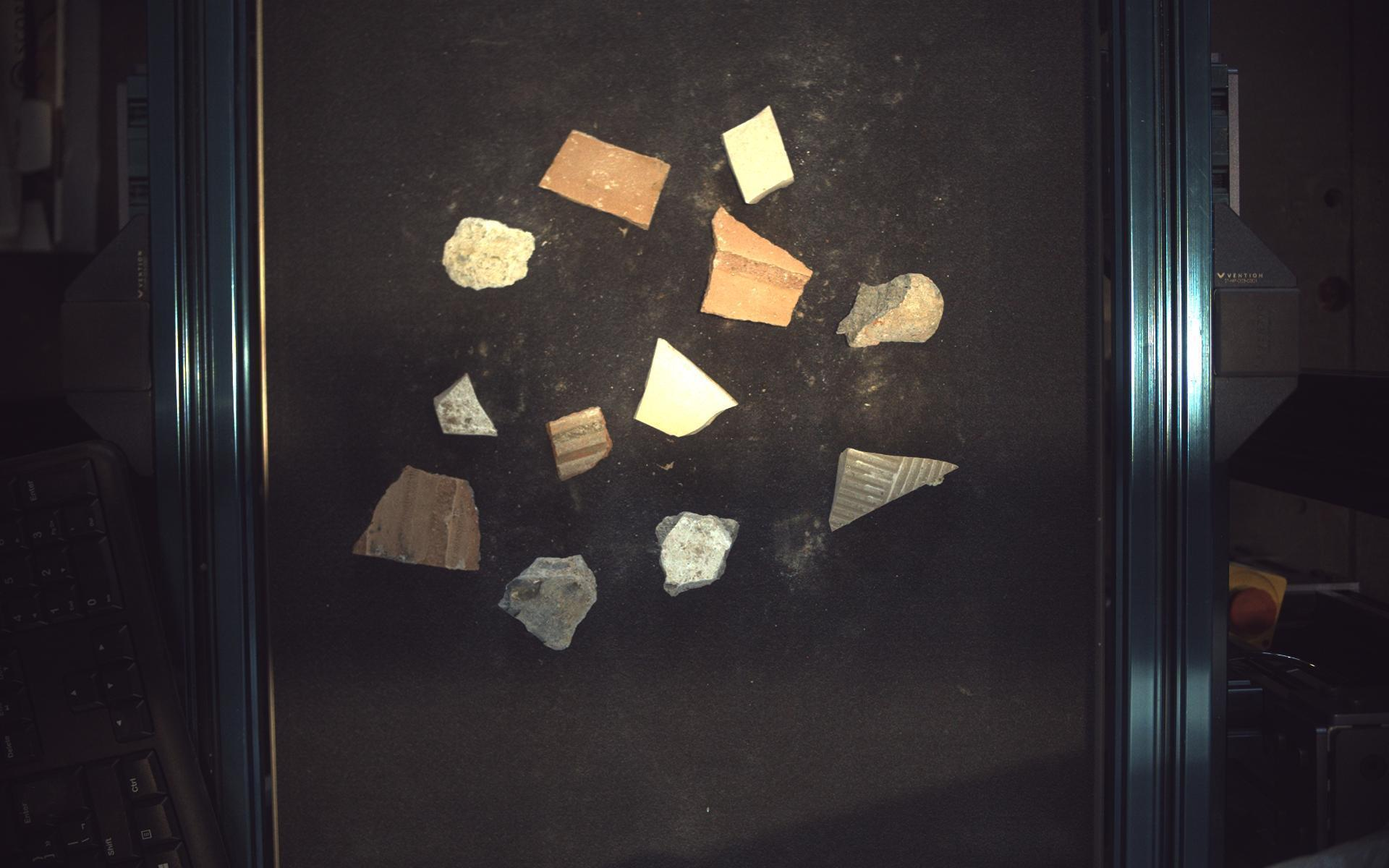brick: (353, 466, 480, 571), (702, 207, 813, 326), (540, 129, 671, 228), (547, 407, 613, 480)
concrete: (499, 556, 598, 651), (838, 273, 946, 348), (656, 512, 740, 597), (443, 216, 535, 289)
tile: (831, 448, 959, 531), (635, 338, 739, 437), (723, 104, 796, 203), (433, 374, 497, 437)
